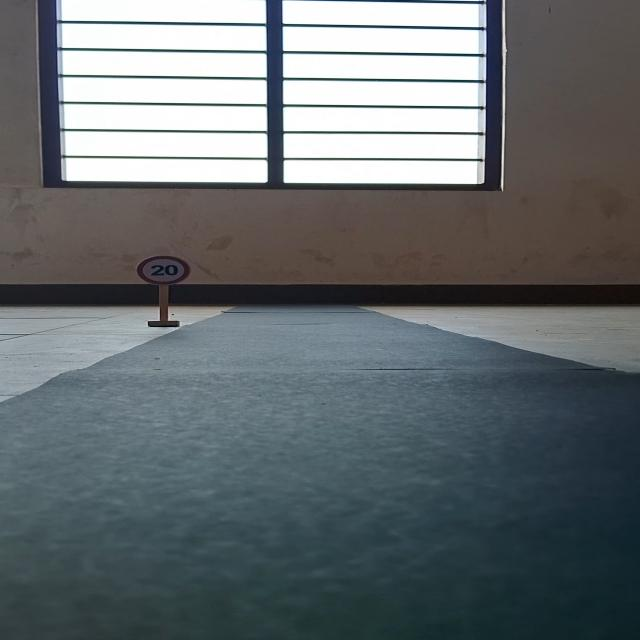Speed20: (132, 252, 194, 288)
